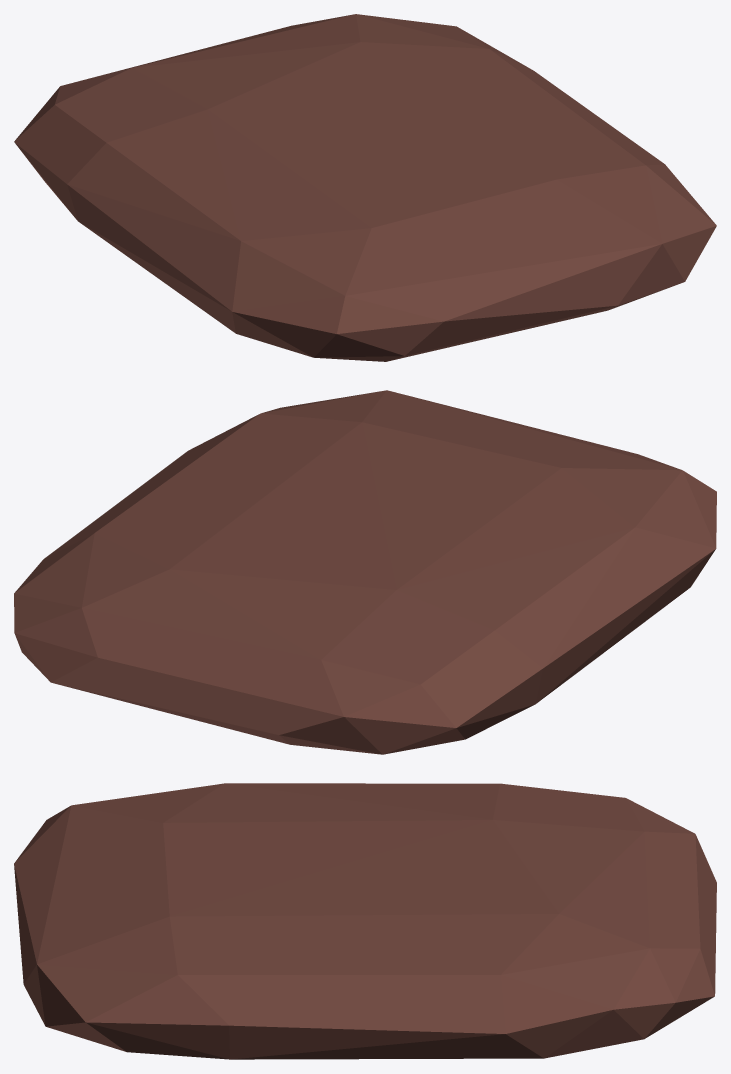
File: fantasy_cloth_pile_1.fbx
The picture shows the model from 3 angles, top to bottom: view 1: azimuth 30°, elevation 25°; view 2: azimuth 150°, elevation 25°; view 3: azimuth 270°, elevation 25°; orthographic projection. The views are drawn at different scales.
Visible parts, largest first — view 1: Cube.238; view 2: Cube.238; view 3: Cube.238.
Boxes of the visible parts, bbox=[...] form: Cube.238: bbox=[14, 14, 716, 361]; Cube.238: bbox=[14, 390, 716, 754]; Cube.238: bbox=[14, 783, 716, 1059].
Bounding box in the file's own units: 37.64 × 7.42 × 47.3.
